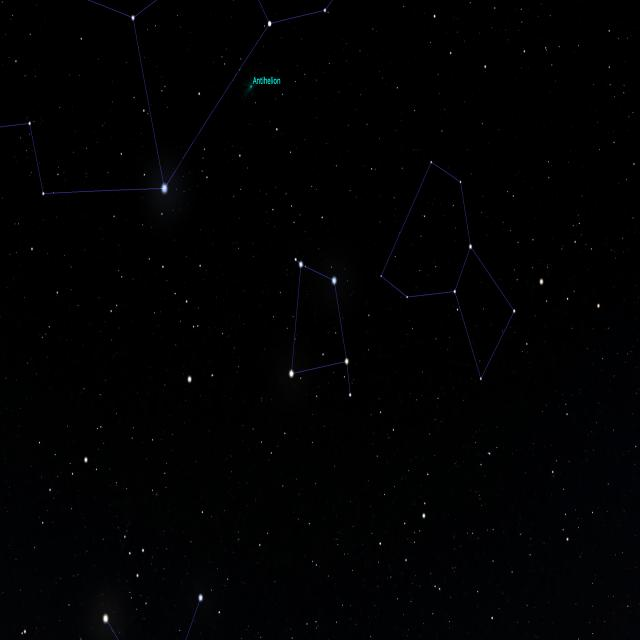Corvus: (280, 249, 360, 407)
